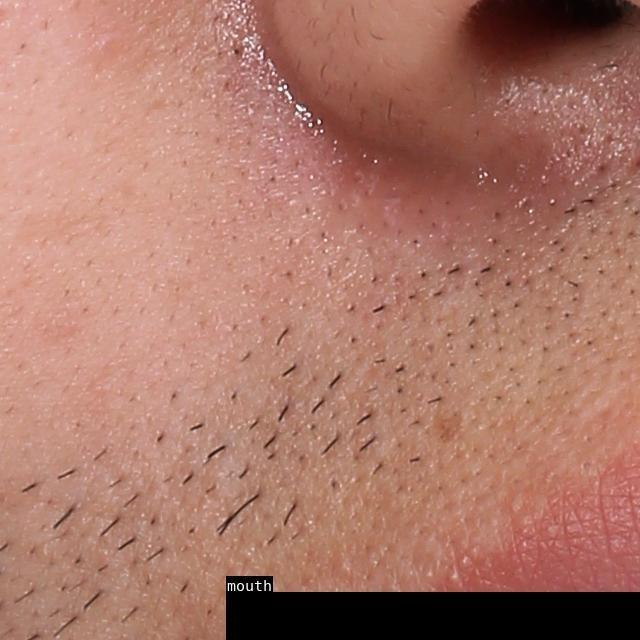atrophic_scar: (429, 402, 465, 447)
